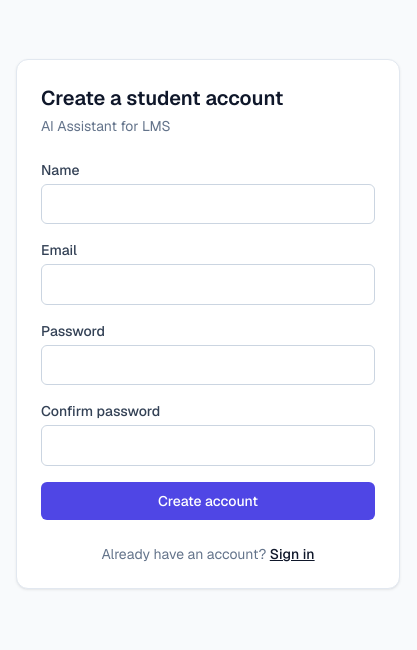
Test case: <RegisterForm /> › shows the backend's 409 for a duplicate email and does not log in
In the field labelled "Name": coordinates (208, 204) [41,184,375,224], type "New Student"
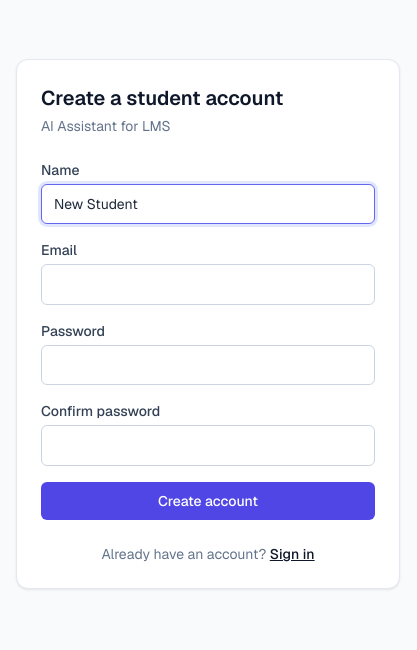
In the field labelled "Email": coordinates (208, 285) [41,264,375,305], type "new@demo.com"
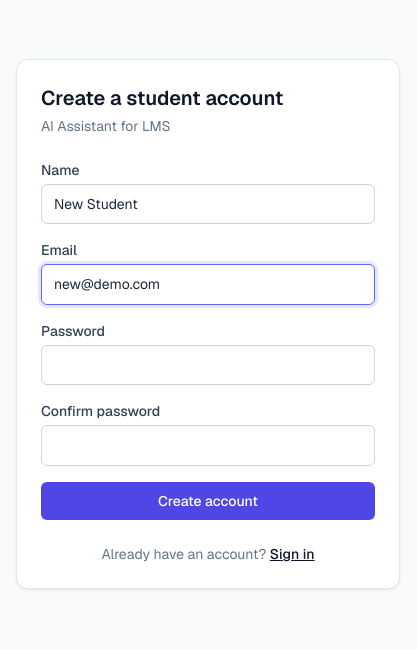
In the password field labelled "Password": coordinates (208, 365) [41,345,375,385], type "notebook123"
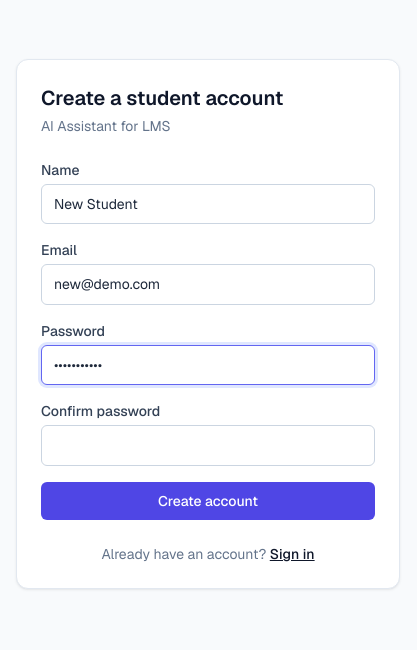
In the password field labelled "Confirm password": coordinates (208, 445) [41,425,375,466], type "notebook123"
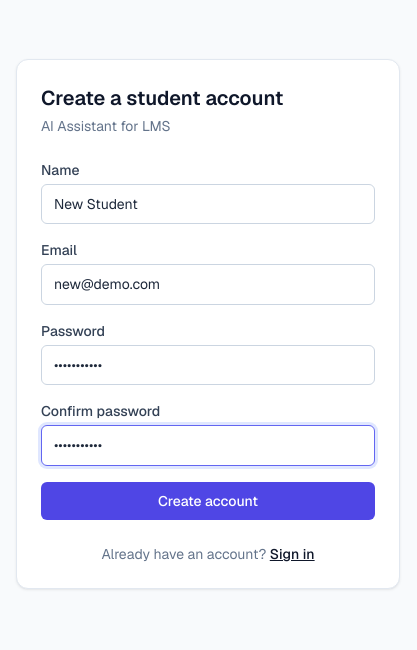
Click the button "Create account": coordinates (208, 501) [41,482,375,520]
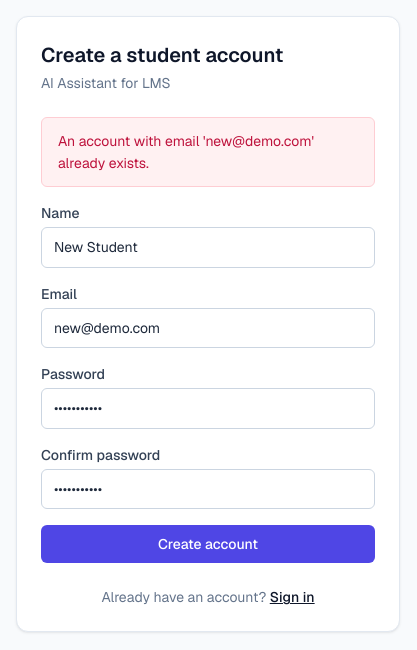
expect the message shows "already exists": met, box [58,132,314,172]
